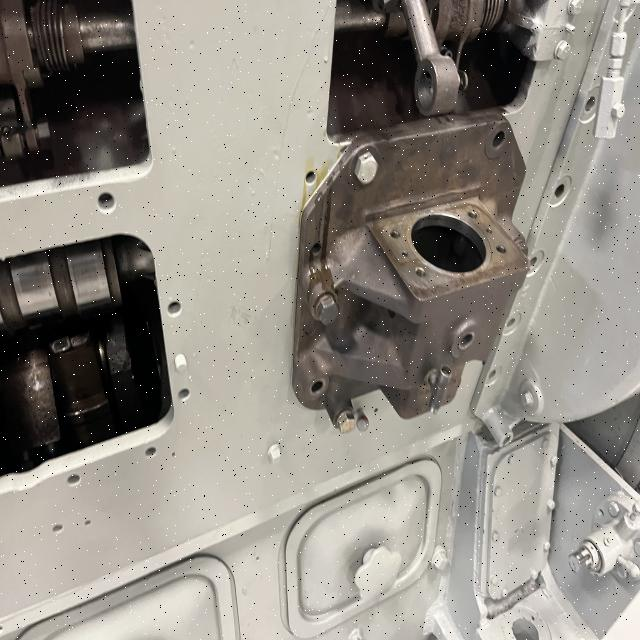Oil Leak: (294, 142, 350, 326)
